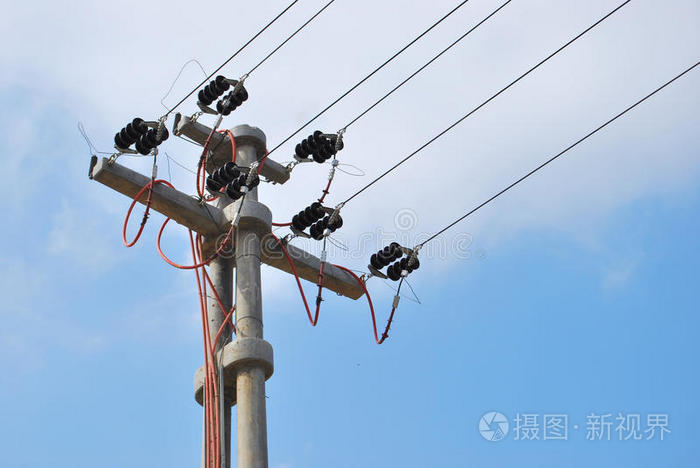insulator: (112, 117, 146, 150), (203, 161, 236, 191), (292, 130, 327, 157), (136, 128, 169, 155), (368, 243, 403, 268), (197, 74, 228, 102), (292, 201, 324, 228), (386, 258, 423, 281), (312, 138, 345, 163), (218, 86, 247, 114), (225, 175, 262, 195), (310, 216, 343, 238)
